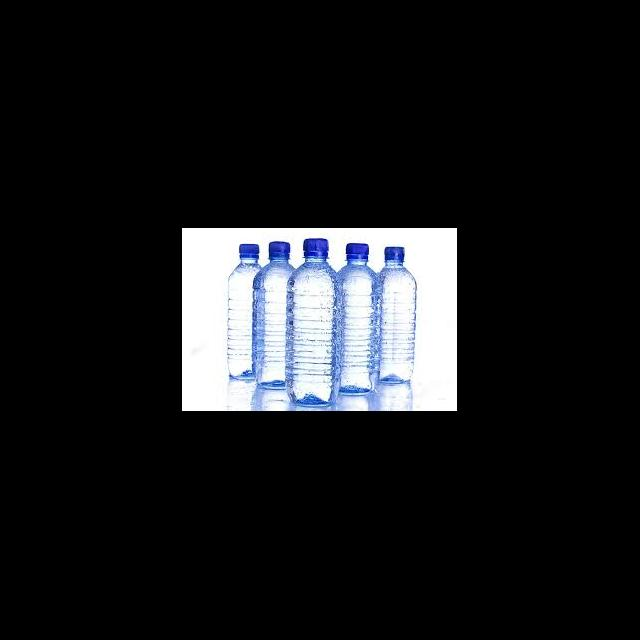plastic: (286, 238, 340, 406), (252, 242, 300, 388), (336, 244, 380, 396), (226, 243, 266, 379), (378, 245, 416, 382), (302, 238, 328, 260), (346, 243, 368, 260), (238, 243, 260, 260), (268, 242, 290, 258), (384, 245, 404, 262)
